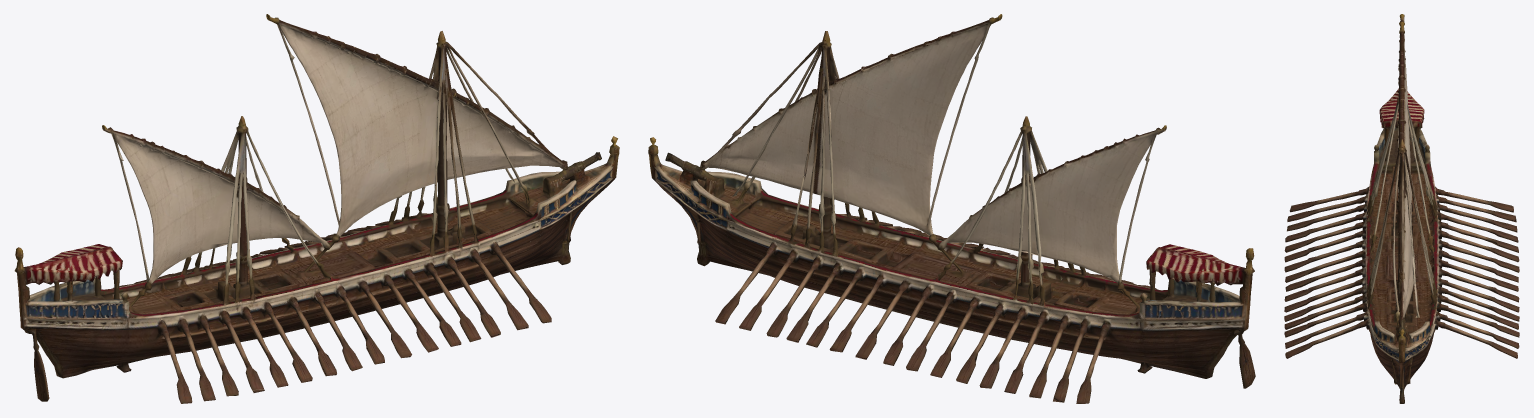
The model's file is osmanli-kadirgasi-1550-1600-tripo-v1.glb.
The picture shows the model from 3 angles, left to right: view 1: azimuth 30°, elevation 25°; view 2: azimuth 150°, elevation 25°; view 3: azimuth 270°, elevation 25°; orthographic projection. The views are drawn at different scales.
Visible parts, largest first — view 1: tripo_node_6ce59708-29aa-4da4-bcdb-026feebe69e2; view 2: tripo_node_6ce59708-29aa-4da4-bcdb-026feebe69e2; view 3: tripo_node_6ce59708-29aa-4da4-bcdb-026feebe69e2.
Boxes of the visible parts, x1=… form: tripo_node_6ce59708-29aa-4da4-bcdb-026feebe69e2: x1=14, y1=14, x2=619, y2=403; tripo_node_6ce59708-29aa-4da4-bcdb-026feebe69e2: x1=648, y1=14, x2=1255, y2=403; tripo_node_6ce59708-29aa-4da4-bcdb-026feebe69e2: x1=1284, y1=14, x2=1519, y2=403.
Size of the model in its own units: 1 by 0.5107 by 0.413.
1 material, 1 textured.
